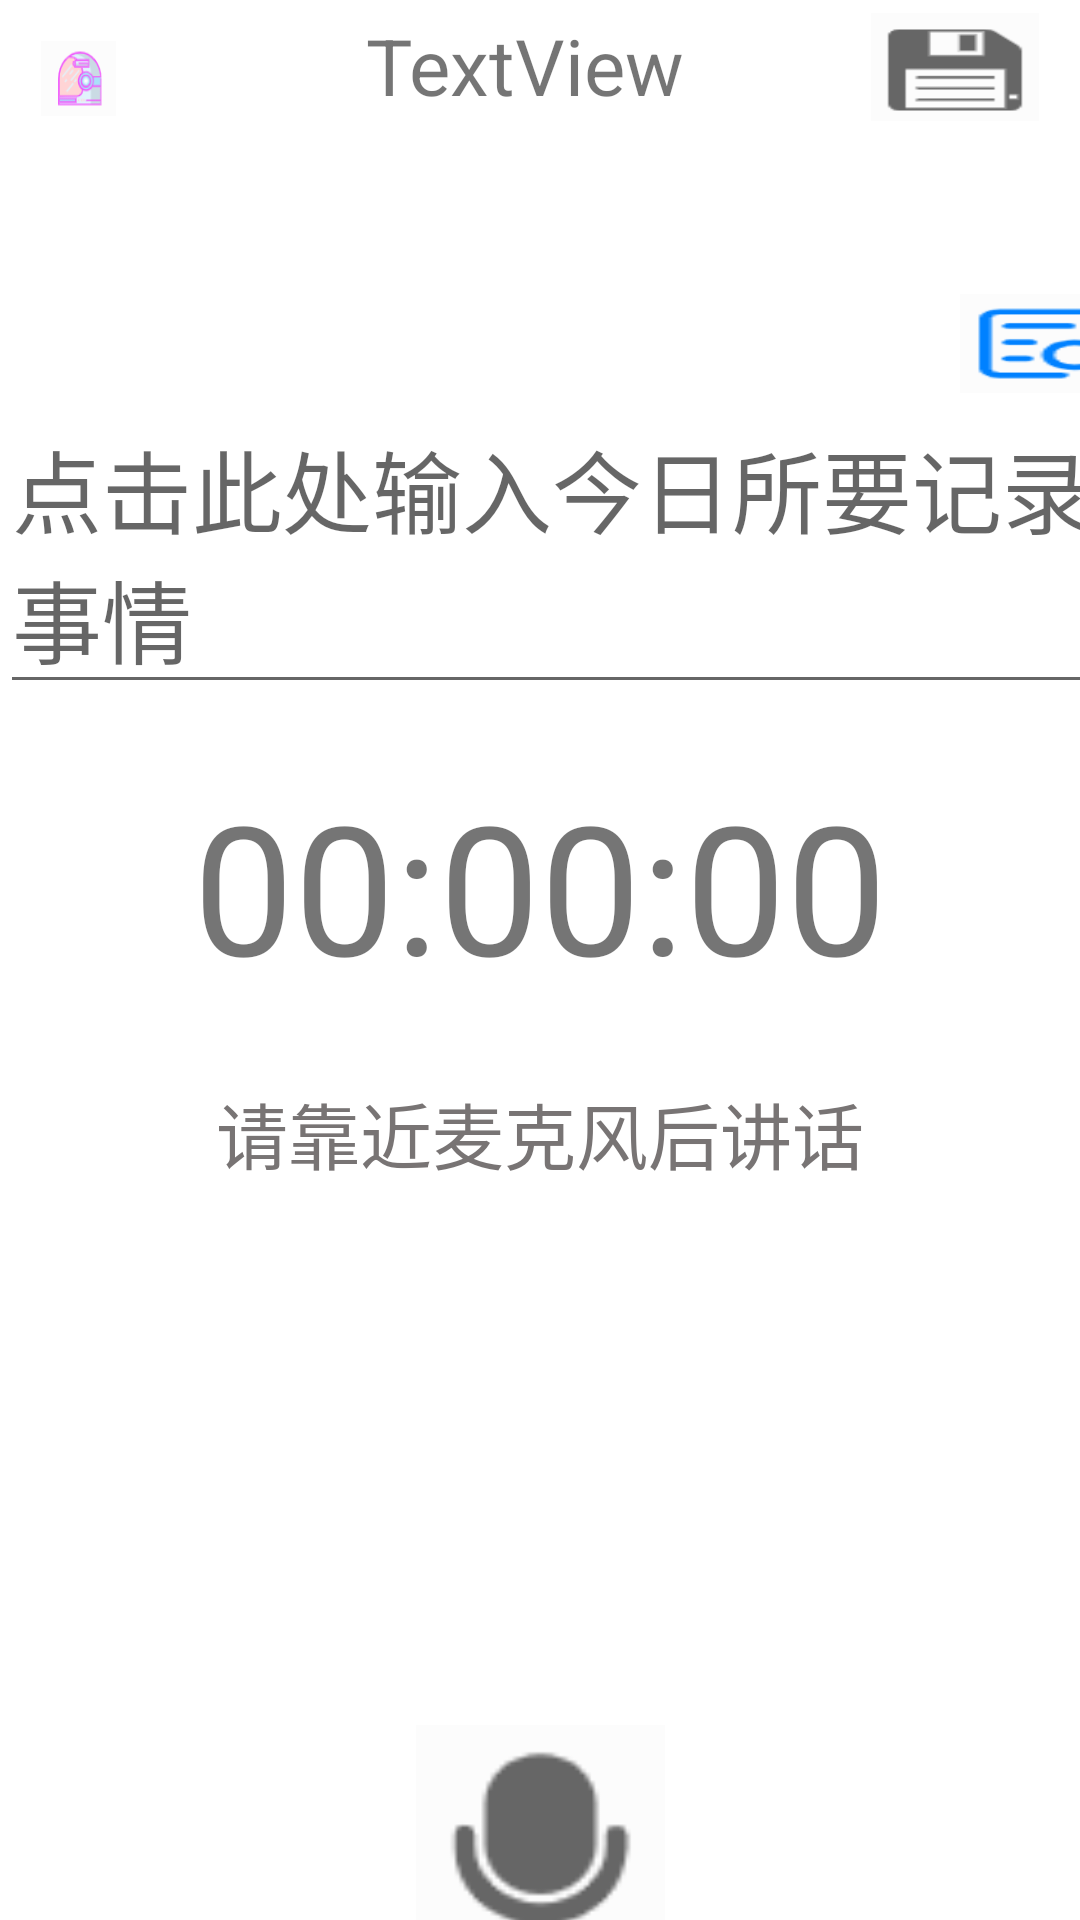

Where to tap for icons on this 1080w x 1920h app screen, as (x,y):
record text save: (955,70)
